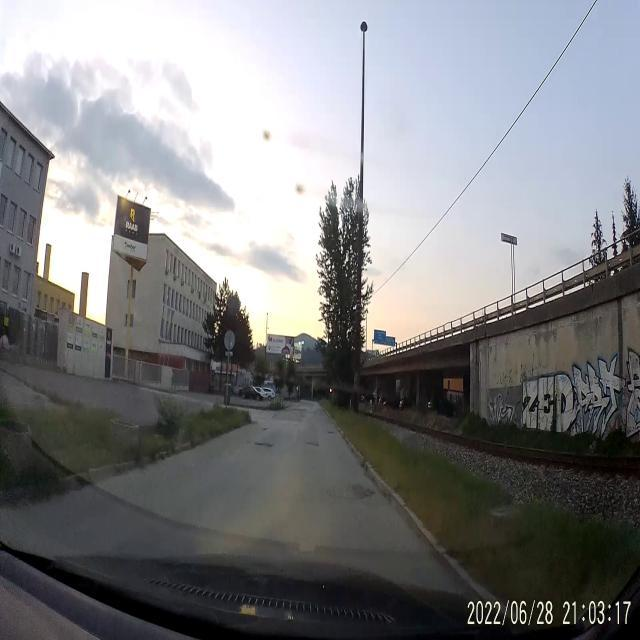Pothole: (329, 480, 376, 506), (300, 437, 318, 452), (252, 439, 274, 446), (260, 425, 270, 434), (326, 428, 337, 436)
